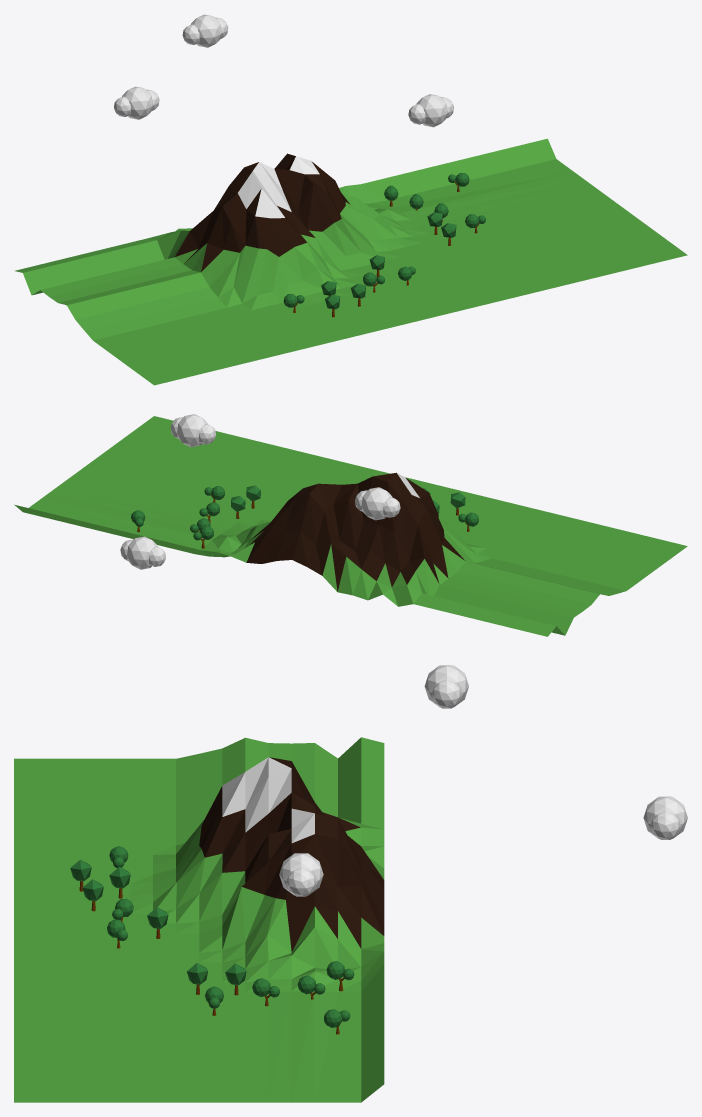
File: mountain.dae
The picture shows the model from 3 angles, top to bottom: view 1: azimuth 30°, elevation 25°; view 2: azimuth 150°, elevation 25°; view 3: azimuth 270°, elevation 25°; orthographic projection. The views are drawn at different scales.
Parts seen in each view (by area): view 1: Plane, Icosphere_010, Icosphere, Icosphere_009; view 2: Plane, Icosphere_010, Icosphere_009, Icosphere; view 3: Plane, Icosphere_009, Icosphere, Icosphere_010.
Part boxes in pixels (<box>): Plane: <box>14,138,687,385</box>; Icosphere_010: <box>114,86,159,119</box>; Icosphere: <box>408,94,453,127</box>; Icosphere_009: <box>182,14,228,47</box>; Plane: <box>14,416,687,636</box>; Icosphere_010: <box>355,487,400,520</box>; Icosphere_009: <box>120,536,165,569</box>; Icosphere: <box>170,414,215,447</box>; Plane: <box>14,737,384,1102</box>; Icosphere_009: <box>643,796,687,839</box>; Icosphere: <box>279,853,323,896</box>; Icosphere_010: <box>424,665,468,708</box>.
Size of the model in its own units: 36.54 by 30.26 by 9.48.
